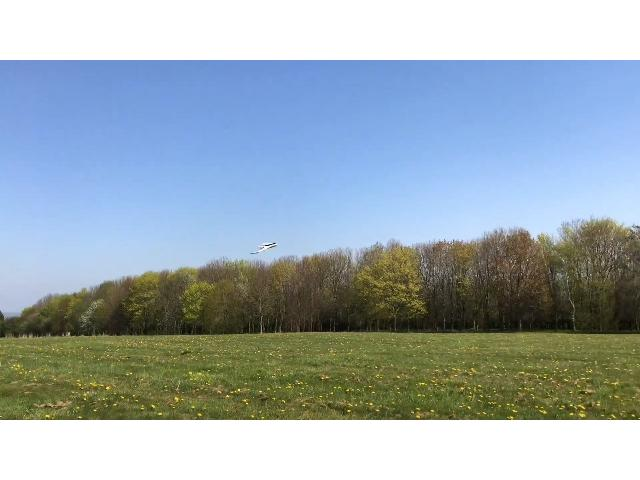Anti-Drone: (240, 228, 280, 260)
